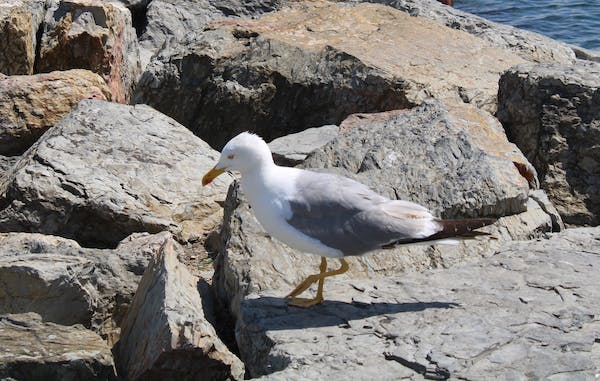Walking: (182, 129, 460, 311)
